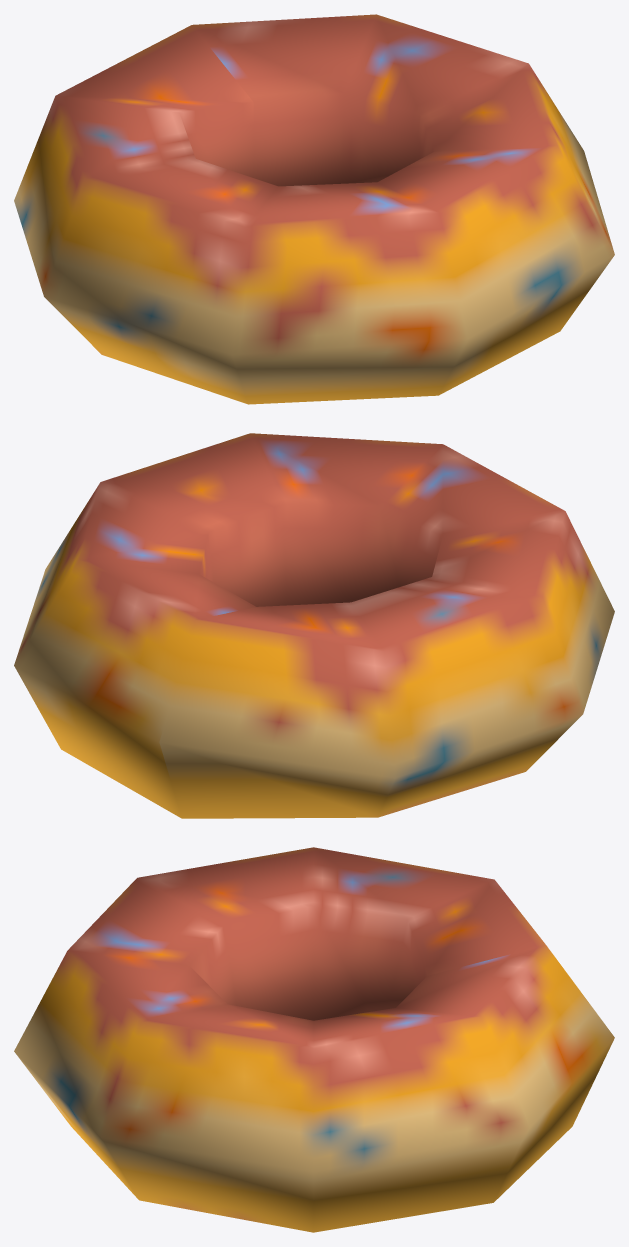
Rendered from Pixel_Misc_S_0014.fbx.
3 renders of one model, top to bottom at view 1: azimuth 30°, elevation 25°; view 2: azimuth 150°, elevation 25°; view 3: azimuth 270°, elevation 25°, orthographic. The views are drawn at different scales.
Parts seen in each view (by area): view 1: Pixel_Misc_S_0014; view 2: Pixel_Misc_S_0014; view 3: Pixel_Misc_S_0014.
Boxes of the visible parts, x1,y1,x2,y2 form: Pixel_Misc_S_0014: (14,14,614,404); Pixel_Misc_S_0014: (14,433,614,818); Pixel_Misc_S_0014: (14,847,614,1232).
Size of the model in its own units: 21.7 by 7.28 by 21.78.
